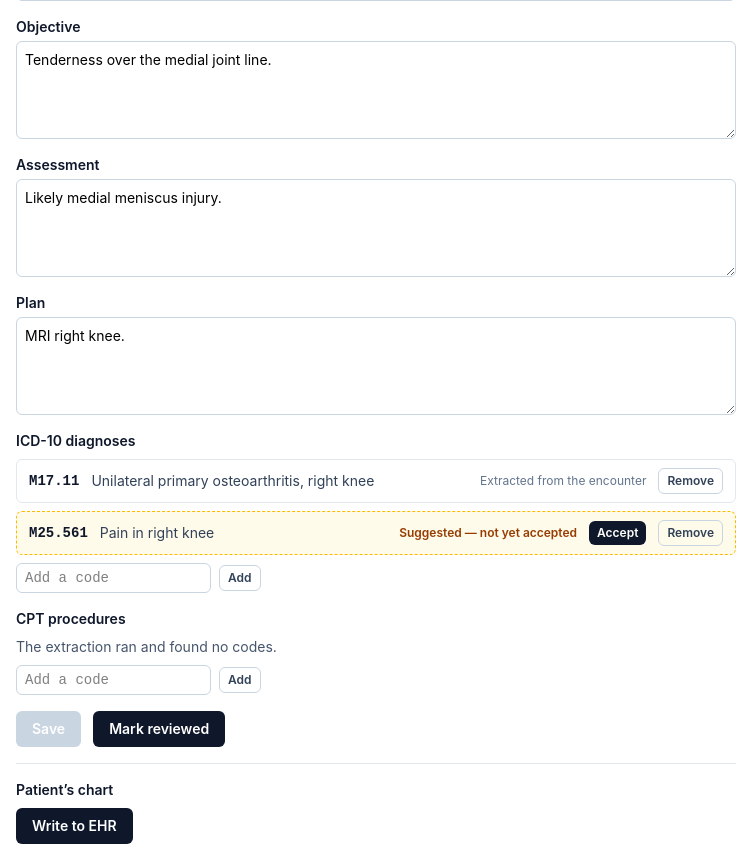
writing to the chart › files the note and then reports it as filed
The width and height of the screenshot is (753, 865).
(page scrolled)
Check: the text box with test id "section-soapPlan" is shown, box [16,317,736,415]
Click the button with test id "write-to-ehr": coordinates (74, 826) [16,808,133,844]
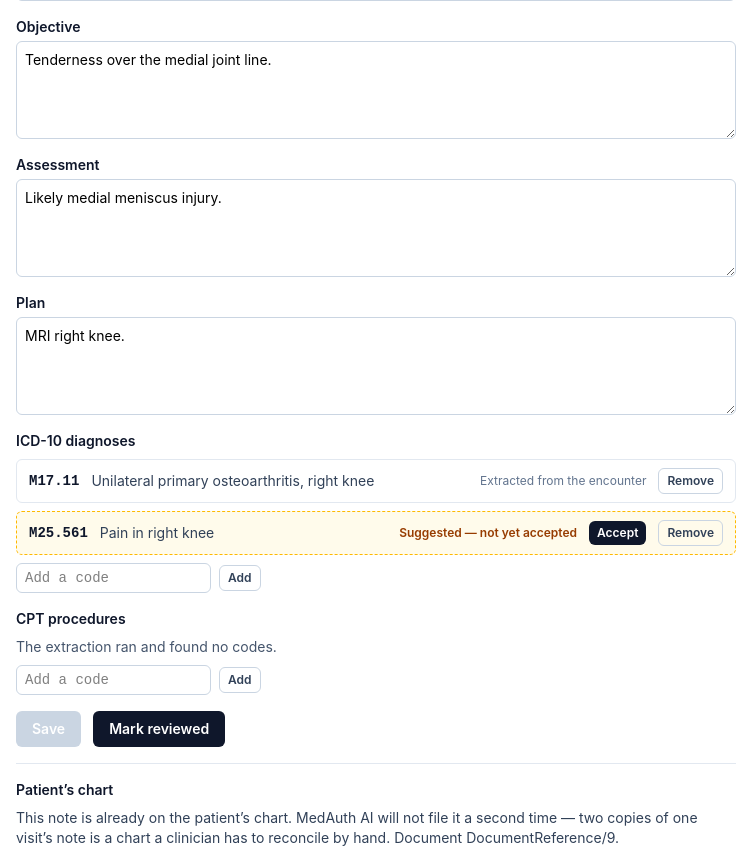
Check: the text with test id "write-filed" is shown, box [16,808,736,848]
Check: the button with test id "write-to-ehr" is gone
